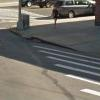Crosswalk: (35, 36, 100, 97)
